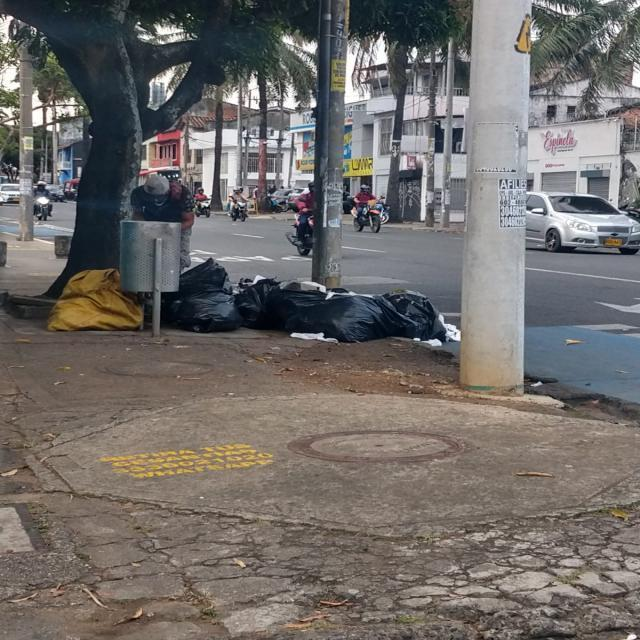Garbage_Bag: (284, 290, 390, 340), (178, 254, 244, 332), (376, 288, 454, 344), (263, 278, 348, 327)
